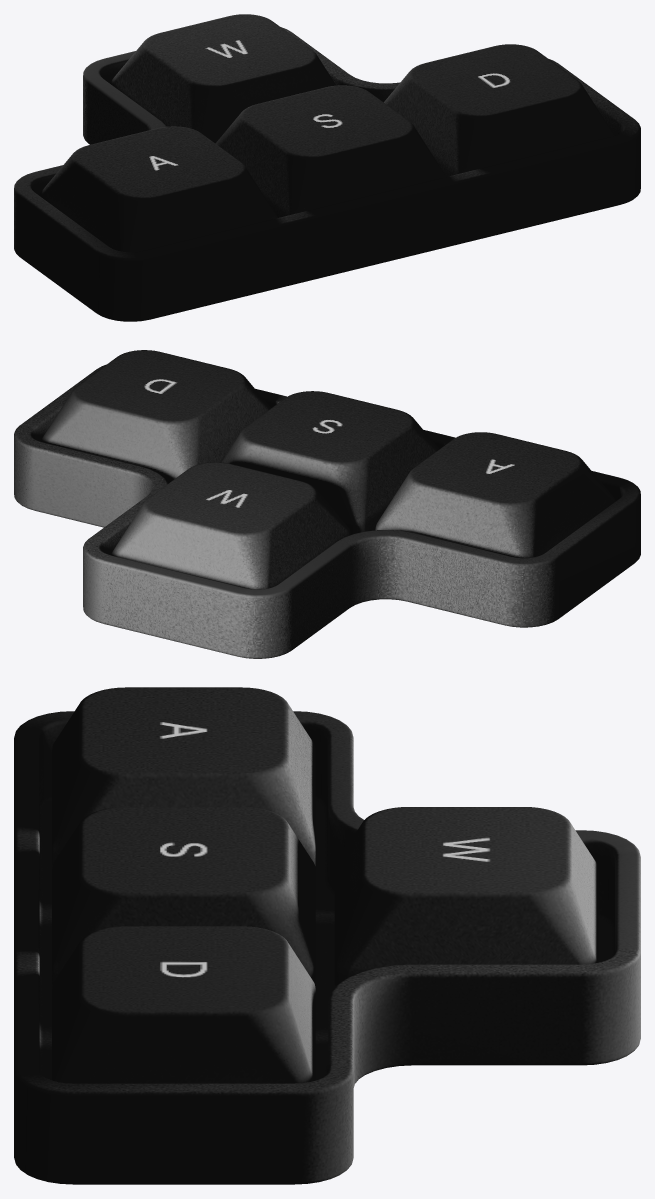
The model's file is keyboard-WASD.glb.
3 renders of one model, top to bottom at view 1: azimuth 30°, elevation 25°; view 2: azimuth 150°, elevation 25°; view 3: azimuth 270°, elevation 25°, orthographic. The views are drawn at different scales.
Parts seen in each view (by area): view 1: base keyboard_Baked, KeyA_Baked, KeyS_Baked, KeyD_Baked, KeyW_Baked; view 2: base keyboard_Baked, KeyW_Baked, KeyA_Baked, KeyD_Baked, KeyS_Baked; view 3: base keyboard_Baked, KeyW_Baked, KeyD_Baked, KeyS_Baked, KeyA_Baked.
Part boxes in pixels (x1,y1,x2,y2): base keyboard_Baked: [14, 27, 640, 321]; KeyA_Baked: [39, 126, 277, 252]; KeyS_Baked: [215, 85, 446, 217]; KeyD_Baked: [384, 44, 614, 176]; KeyW_Baked: [110, 14, 336, 143]; base keyboard_Baked: [14, 365, 640, 658]; KeyW_Baked: [111, 462, 350, 589]; KeyA_Baked: [375, 432, 615, 557]; KeyD_Baked: [40, 350, 270, 483]; KeyS_Baked: [221, 391, 439, 534]; base keyboard_Baked: [14, 711, 640, 1184]; KeyW_Baked: [334, 807, 598, 986]; KeyD_Baked: [52, 926, 315, 1083]; KeyS_Baked: [52, 807, 315, 985]; KeyA_Baked: [52, 687, 315, 865].
Size of the model in its own units: 0.4011 by 0.0705 by 0.2774.
1 material, 1 textured.
